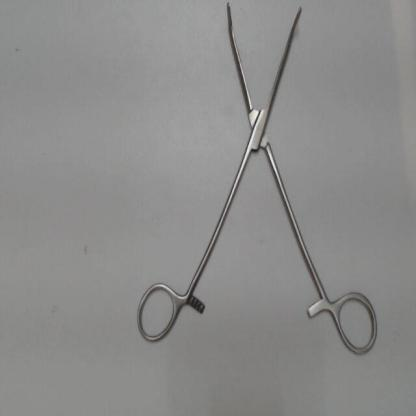Lahey Forceps: (133, 2, 382, 361)
